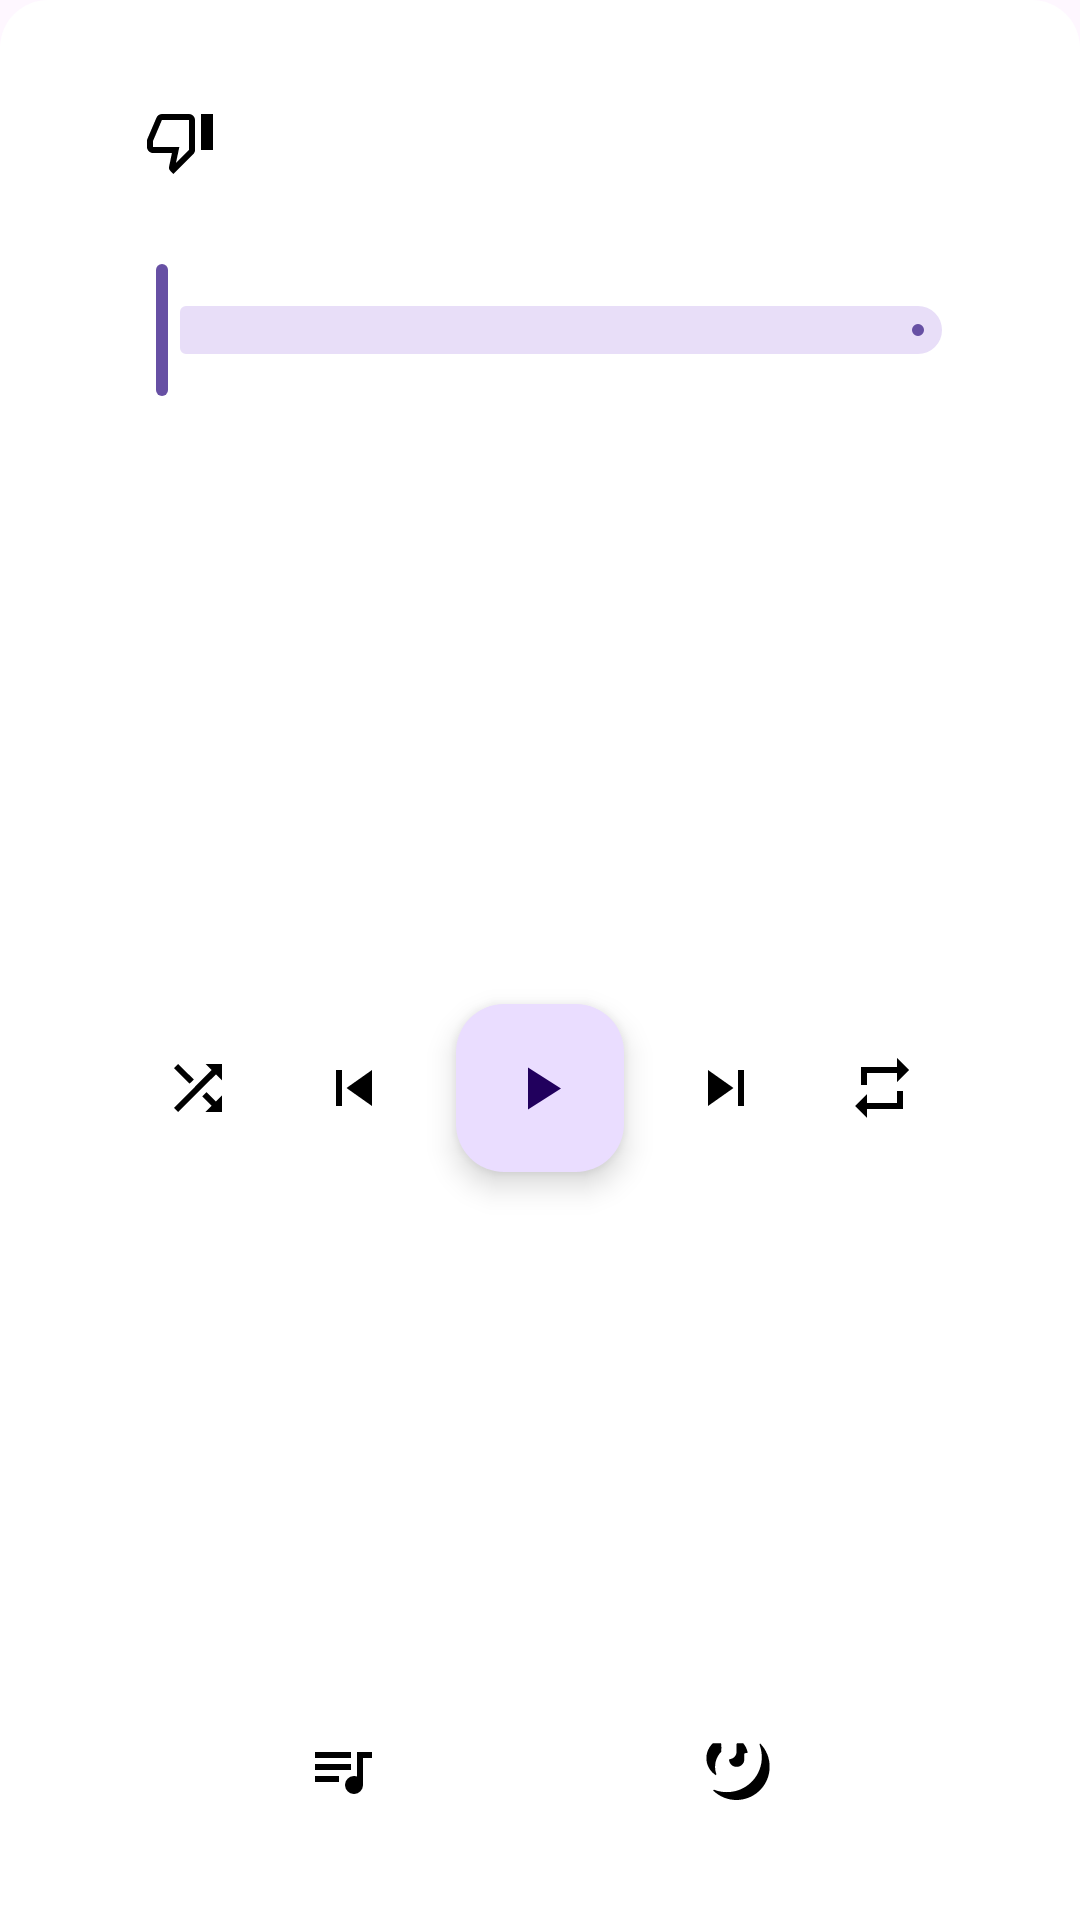

Icon click points for this 1080px x 1920px phone screenshot, format [x,y]:
dislike: [180,144]
next: [726,1088]
play: [540,1088]
previous: [354,1088]
queue: [343,1773]
repeat: [882,1088]
shuffle: [198,1088]
